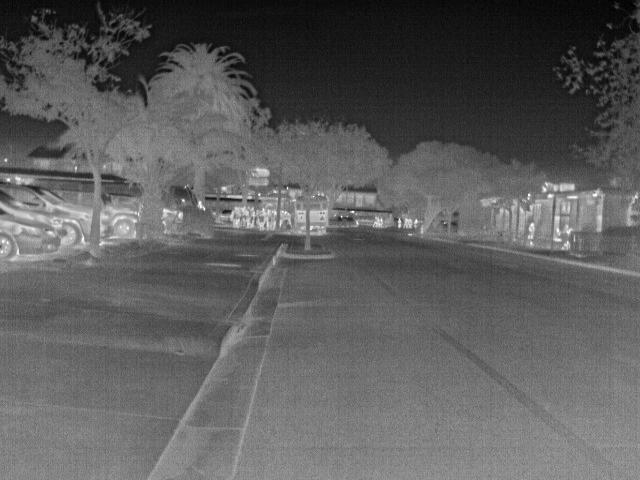car: (2, 180, 93, 252), (2, 208, 60, 263), (103, 203, 139, 239), (163, 208, 186, 234), (221, 208, 235, 221)
person: (526, 220, 539, 248), (551, 227, 563, 241)
